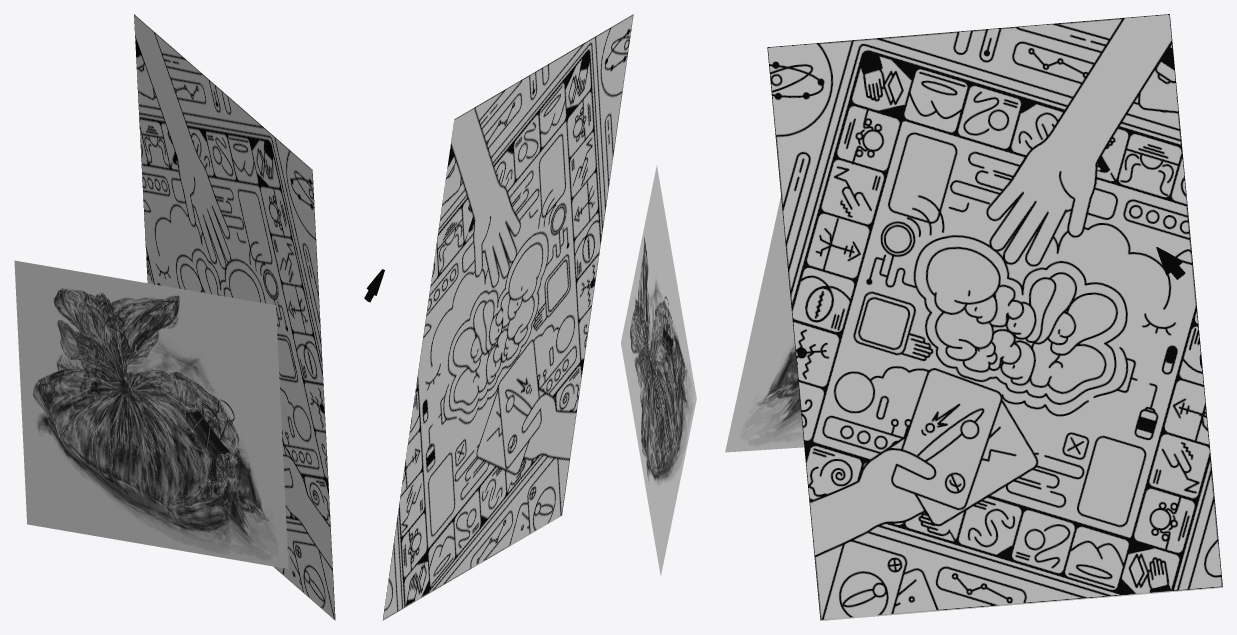
3 views of the same model, side by side, from view 1: azimuth 30°, elevation 25°; view 2: azimuth 150°, elevation 25°; view 3: azimuth 270°, elevation 25° (orthographic). The views are drawn at different scales.
Parts seen in each view (by area): view 1: Plane.002, Plane; view 2: Plane, Plane.002; view 3: Plane, Plane.002.
Part boxes in pixels (<box>): Plane.002: <box>14,260,288,568</box>; Plane: <box>134,14,335,620</box>; Plane: <box>382,14,633,620</box>; Plane.002: <box>621,165,696,576</box>; Plane: <box>767,14,1222,620</box>; Plane.002: <box>725,196,804,452</box>.
Size of the model in its own units: 22.51 by 46.65 by 36.31.
Materials: 3 (2 with a texture image).
